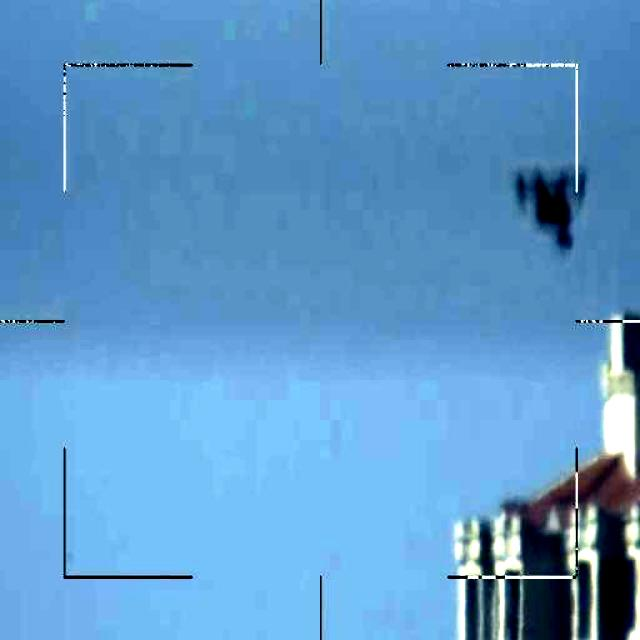bird: (511, 160, 594, 250)
